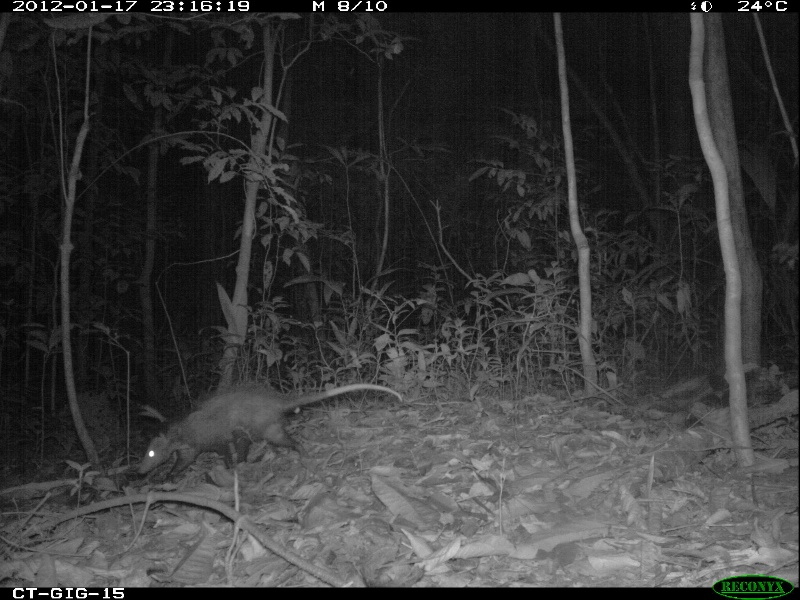opossum: (129, 362, 407, 488)
